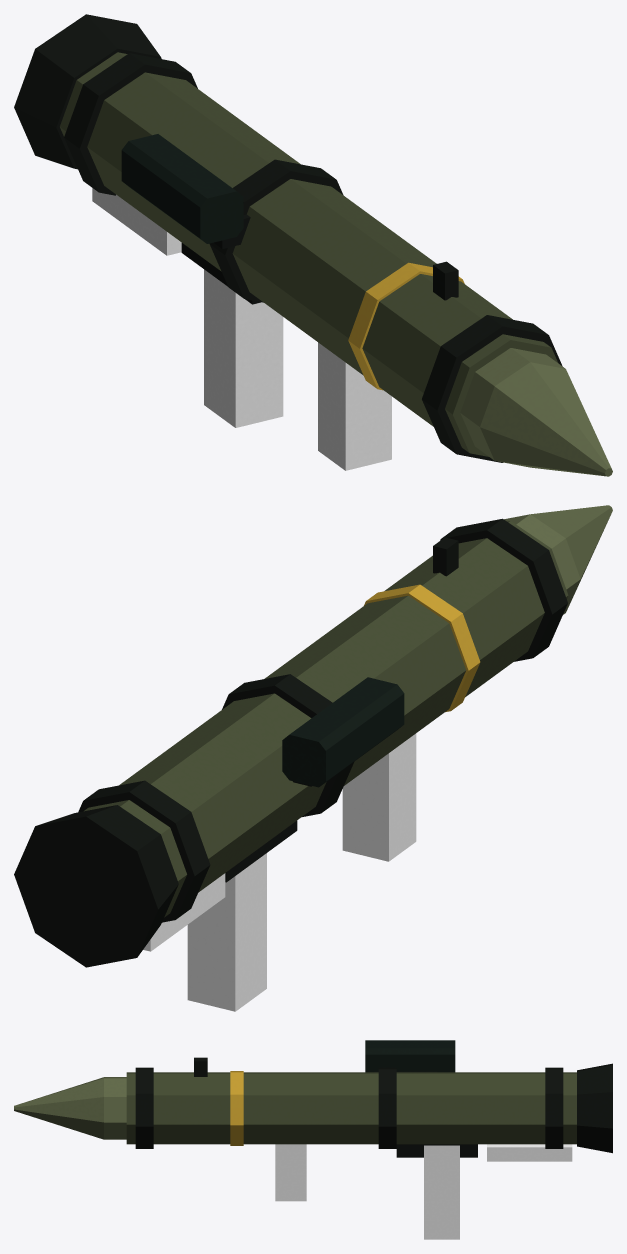
File: rocket.glb
The picture shows the model from 3 angles, top to bottom: view 1: azimuth 30°, elevation 25°; view 2: azimuth 150°, elevation 25°; view 3: azimuth 270°, elevation 25°; orthographic projection. The views are drawn at different scales.
Visible parts, largest first — view 1: Rocket Launcher, Rocket; view 2: Rocket Launcher, Rocket; view 3: Rocket Launcher, Rocket.
Boxes of the visible parts, x1,y1,x2,y2 form: Rocket Launcher: (14,14,562,470); Rocket: (460,348,612,476); Rocket Launcher: (14,518,568,1011); Rocket: (504,505,612,614); Rocket Launcher: (126,1040,612,1239); Rocket: (14,1077,126,1139).
Size of the model in its own units: 0.256 by 0.42 by 1.33.
3 materials, 3 textured.
